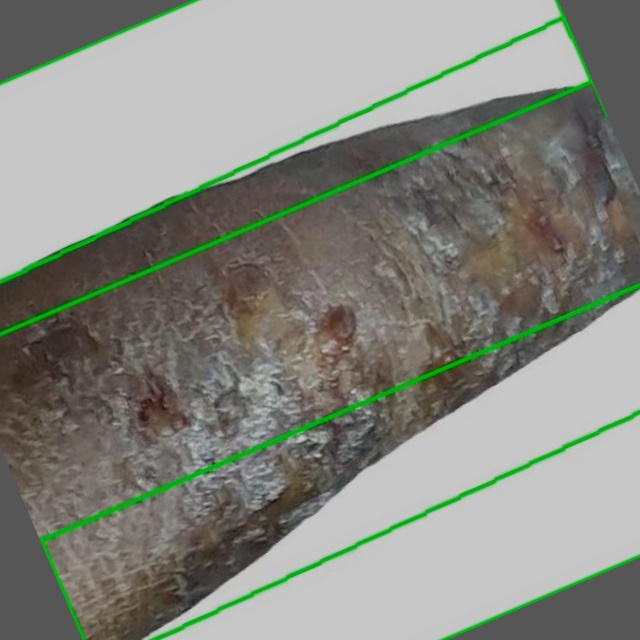Eczema: (0, 17, 639, 639), (41, 285, 639, 639), (0, 0, 592, 334)
